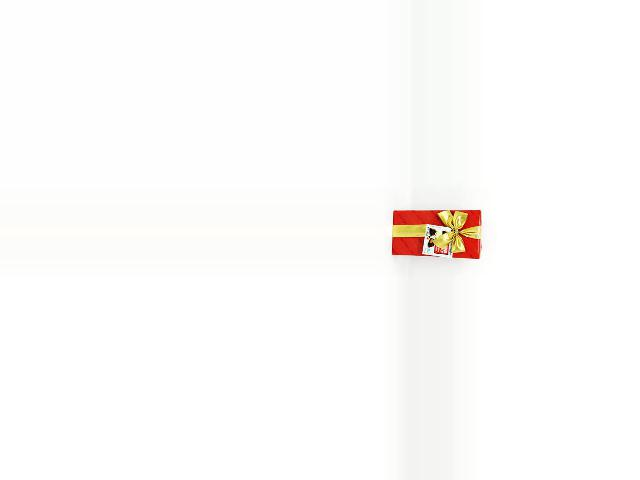chocolate: (393, 205, 484, 258)
